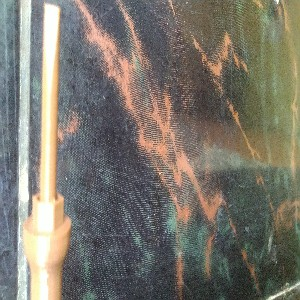obeng: (22, 2, 72, 300)
